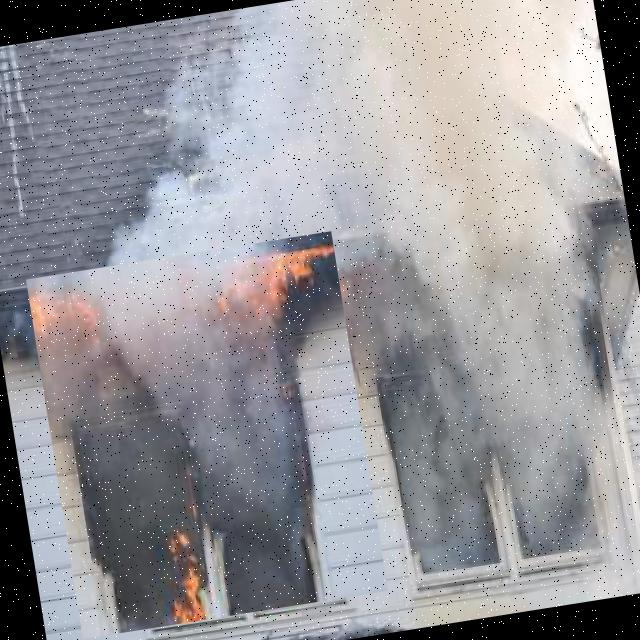fire: (26, 231, 388, 639)
